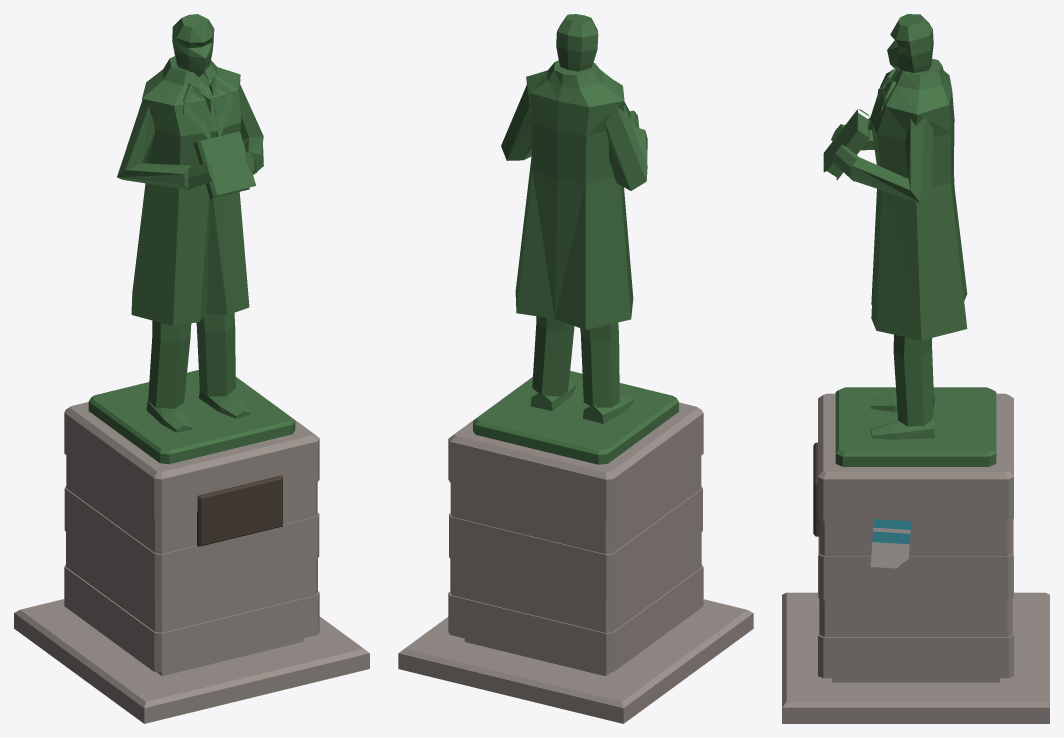
The model's file is founder-s-statue-71c269.glb.
3 renders of one model, left to right at view 1: azimuth 30°, elevation 25°; view 2: azimuth 150°, elevation 25°; view 3: azimuth 270°, elevation 25°, orthographic. The views are drawn at different scales.
Size of the model in its own units: 1.5 by 4.01 by 1.5.
